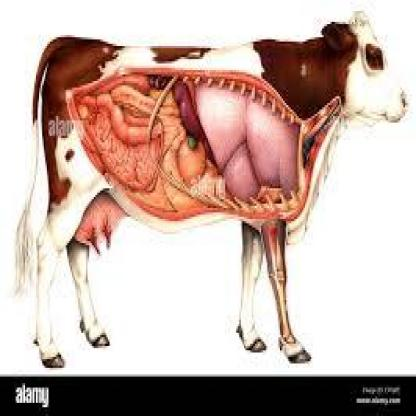cow: (16, 10, 408, 369)
